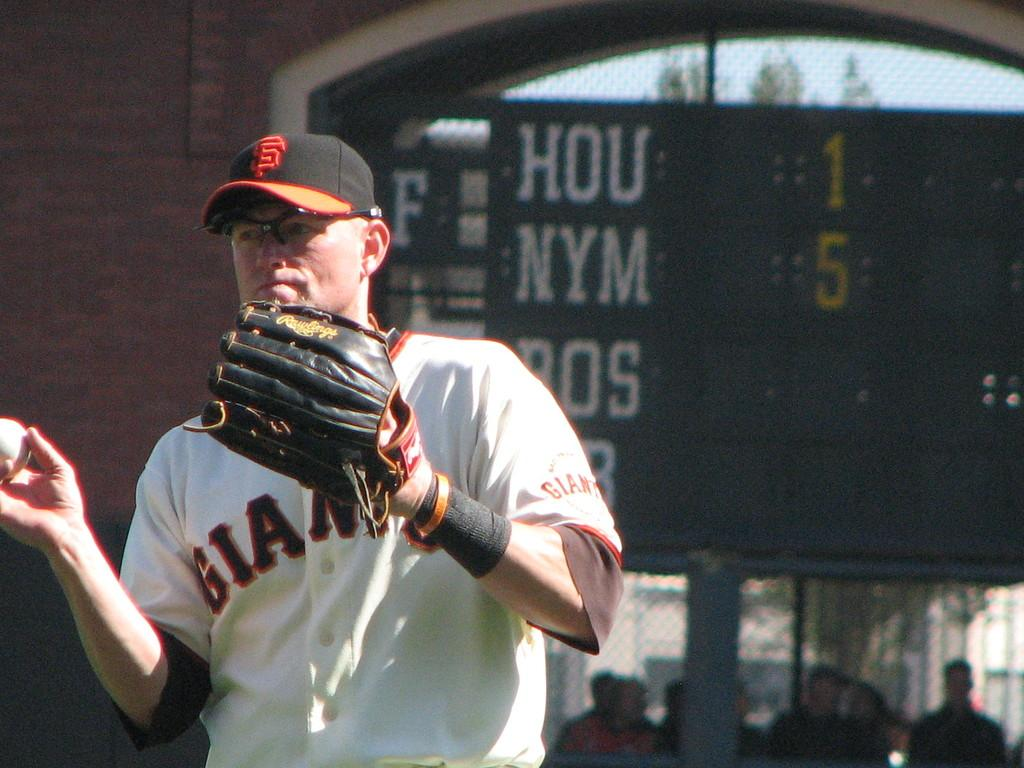Hat: (203, 132, 380, 241)
